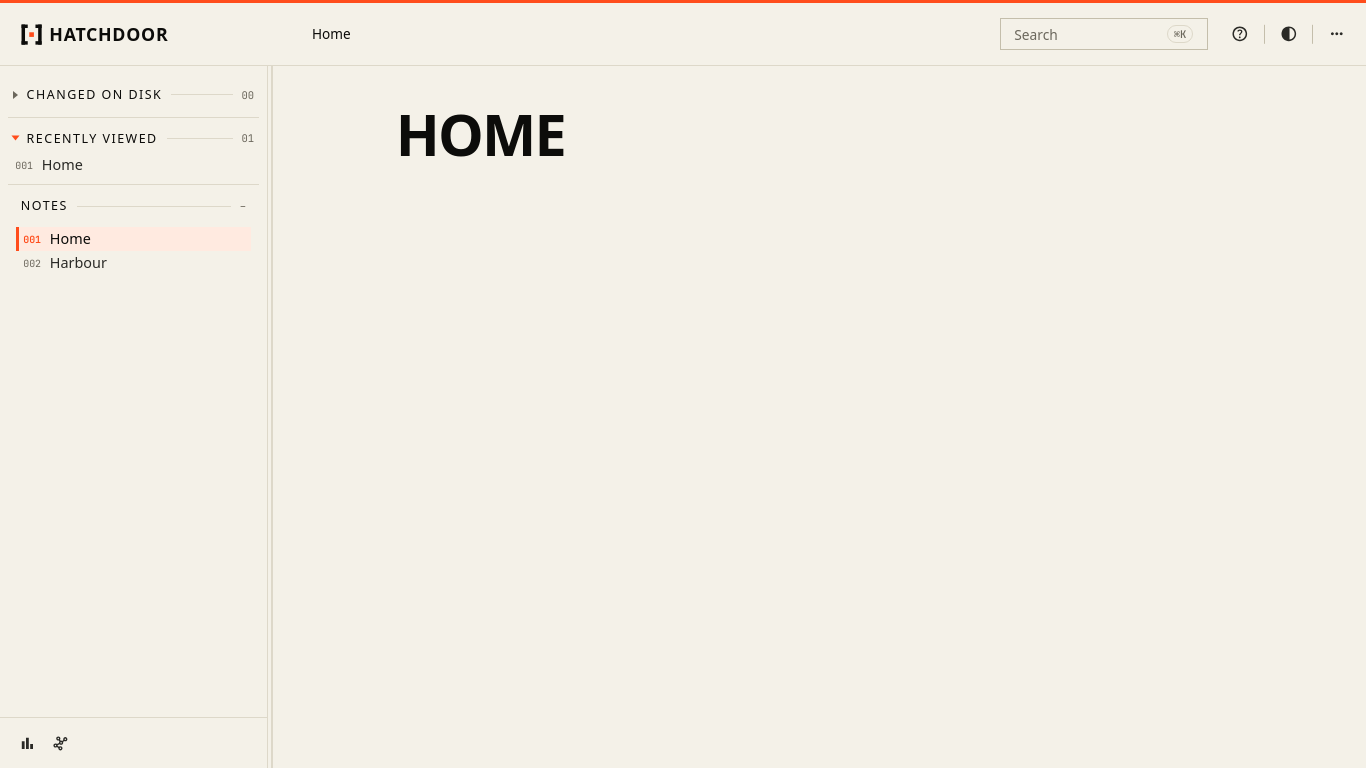
Browser tab title on a demo instance (#514) › names the open note and follows a move to another note
Expected: the heading "Home" is shown, x1=396 y1=106 x2=565 y2=163
Click the link "002 Harbour" at {"x": 65, "y": 262}, box x1=23 y1=253 x2=107 y2=272
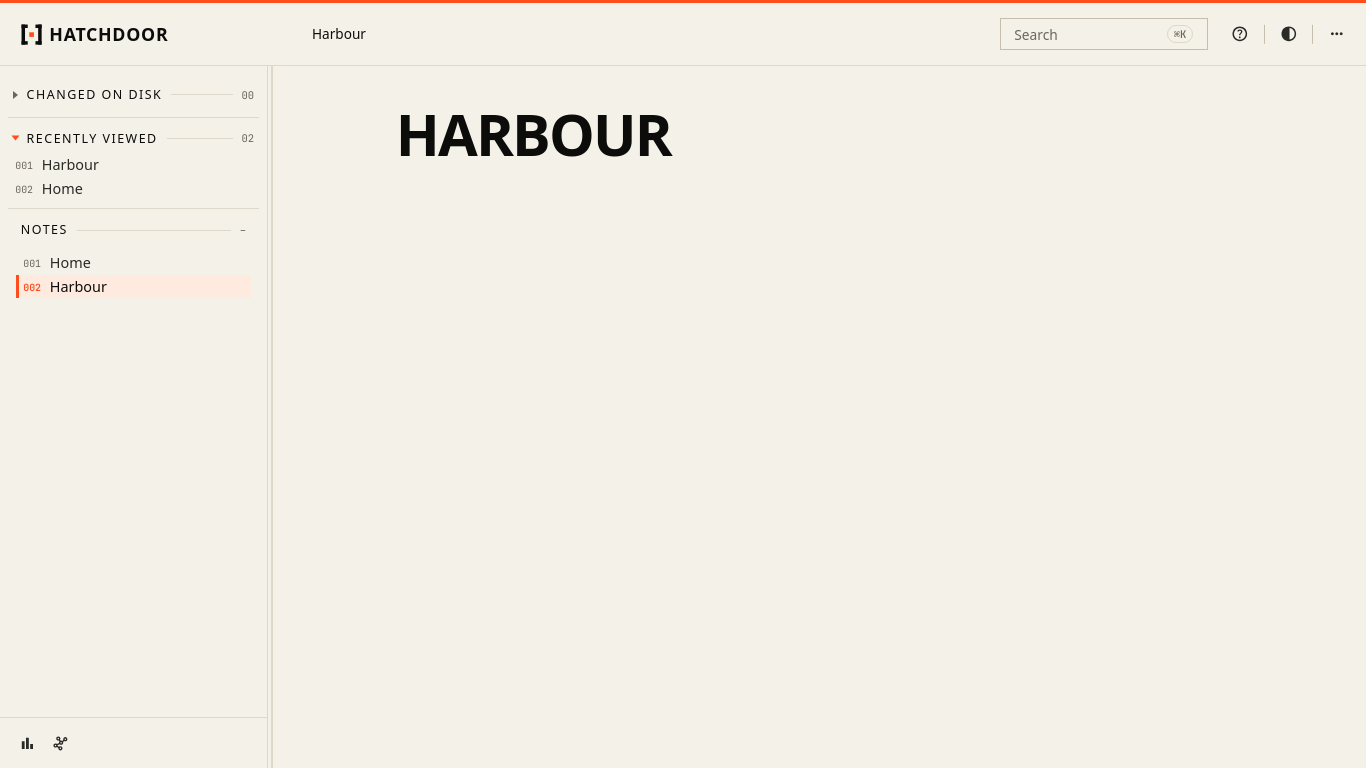
Result: the heading "Harbour" is shown at x1=396 y1=106 x2=671 y2=163
